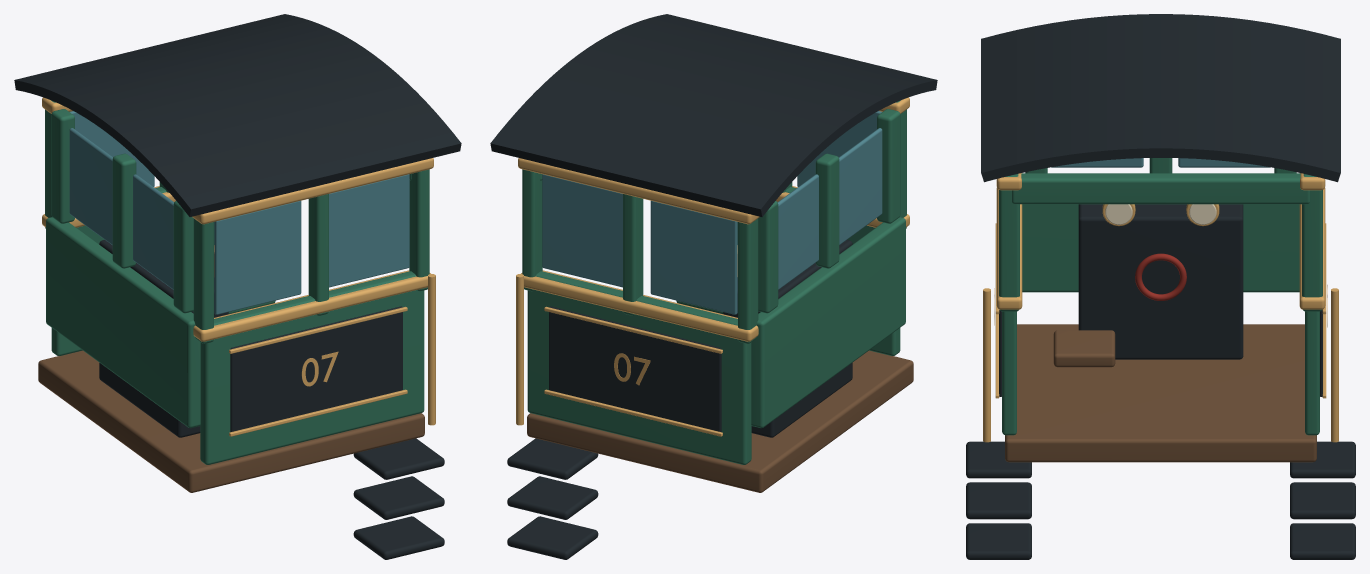
Rendered from cab-and-controls.glb.
The picture shows the model from 3 angles, left to right: view 1: azimuth 30°, elevation 25°; view 2: azimuth 150°, elevation 25°; view 3: azimuth 270°, elevation 25°; orthographic projection.
Parts seen in each view (by area): view 1: Arched cab roof, Cab front lower, Cab lower side, Cab inset panel, Cab floor, Glazed window, Glazed window.001, Front glazing.001, Front glazing, Window sill, Window sill.001, Cab access step (+15 smaller); view 2: Arched cab roof, Cab front lower, Cab lower side.001, Cab inset panel.001, Cab floor, Glazed window.002, Glazed window.003, Front glazing, Front glazing.001, Window sill.002, Window sill.003, Cab access step.003 (+15 smaller); view 3: Arched cab roof, Cab floor, Firebox, Cab front lower, Cab rear transom, Cab access step.001, Cab access step.004, Cab access step, Cab access step.003, Driver seat, Cab window pillar.002, Cab window pillar.005 (+13 smaller).
Part boxes in pixels (bbox=[...]): Arched cab roof: bbox=[14, 14, 461, 216]; Cab front lower: bbox=[46, 217, 200, 427]; Cab lower side: bbox=[200, 271, 424, 464]; Cab inset panel: bbox=[230, 306, 402, 432]; Cab floor: bbox=[38, 350, 424, 492]; Glazed window: bbox=[214, 200, 301, 314]; Glazed window.001: bbox=[329, 174, 409, 287]; Front glazing.001: bbox=[69, 128, 112, 244]; Front glazing: bbox=[133, 174, 174, 289]; Window sill: bbox=[193, 270, 430, 341]; Window sill.001: bbox=[192, 158, 433, 224]; Cab access step: bbox=[353, 516, 444, 559]; Arched cab roof: bbox=[490, 14, 937, 216]; Cab front lower: bbox=[751, 217, 905, 427]; Cab lower side.001: bbox=[527, 271, 751, 464]; Cab inset panel.001: bbox=[549, 306, 721, 432]; Cab floor: bbox=[527, 350, 913, 492]; Glazed window.002: bbox=[650, 200, 737, 314]; Glazed window.003: bbox=[542, 174, 622, 287]; Front glazing: bbox=[839, 128, 882, 244]; Front glazing.001: bbox=[777, 174, 818, 289]; Window sill.002: bbox=[521, 270, 758, 341]; Window sill.003: bbox=[518, 158, 759, 224]; Cab access step.003: bbox=[507, 516, 598, 559]; Arched cab roof: bbox=[981, 14, 1340, 182]; Cab floor: bbox=[1005, 324, 1316, 462]; Firebox: bbox=[1078, 204, 1243, 359]; Cab front lower: bbox=[1022, 204, 1299, 292]; Cab rear transom: bbox=[1012, 173, 1309, 204]; Cab access step.001: bbox=[966, 482, 1031, 519]; Cab access step.004: bbox=[1290, 482, 1355, 519]; Cab access step: bbox=[966, 523, 1031, 559]; Cab access step.003: bbox=[1290, 523, 1355, 559]; Driver seat: bbox=[1053, 330, 1115, 367]; Cab window pillar.002: bbox=[999, 174, 1019, 311]; Cab window pillar.005: bbox=[1302, 174, 1322, 311].
Bounding box in the file's own units: 2.12 × 3.12 × 2.6.
